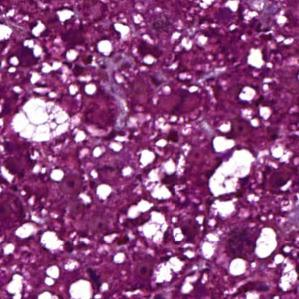ballooning: (10, 92, 71, 144)
